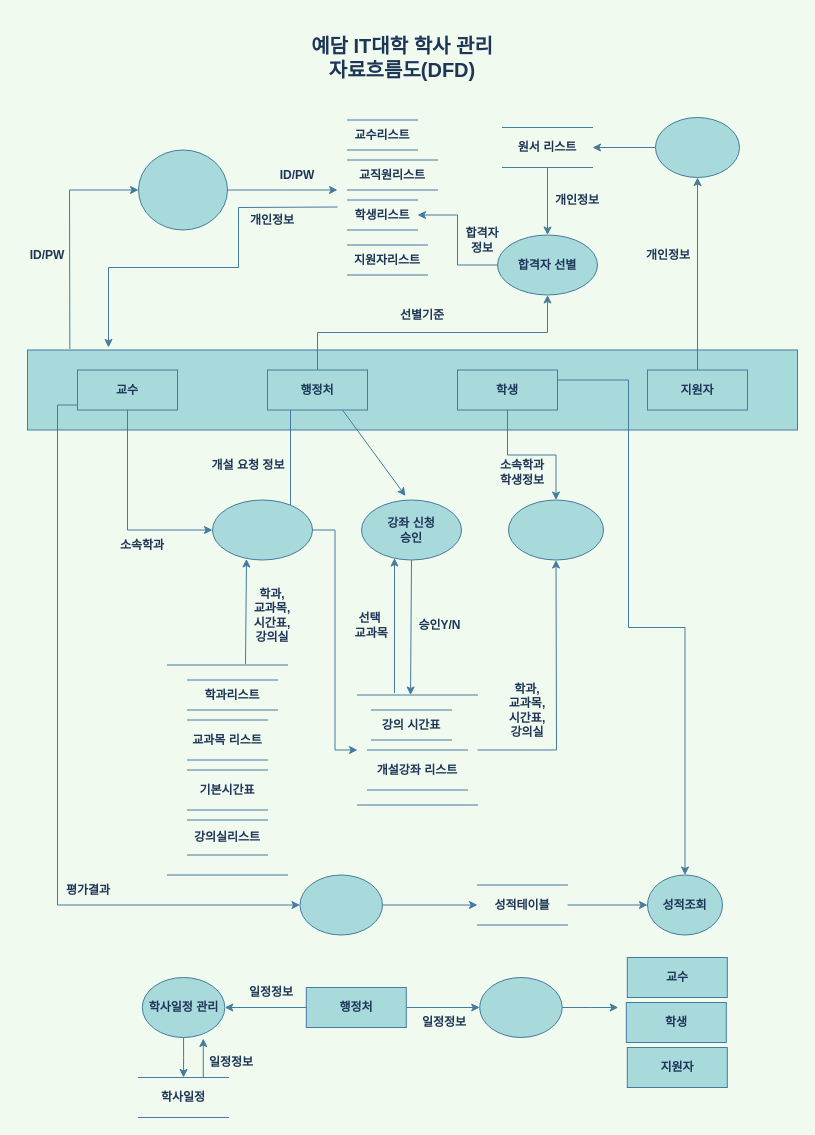
Image size: 815x1135. Some labels were removed from this diagram. Here are the shapes that lost their labels. From the top down, the centre of each, then its label:
At (x=697, y=147): "원서접수".
At (x=183, y=189): "로그인".
At (x=262, y=529): "강좌 신청".
At (x=556, y=529): "수강 신청".
At (x=340, y=904): "교과목 평가".
At (x=520, y=1007): "학사 알림".
